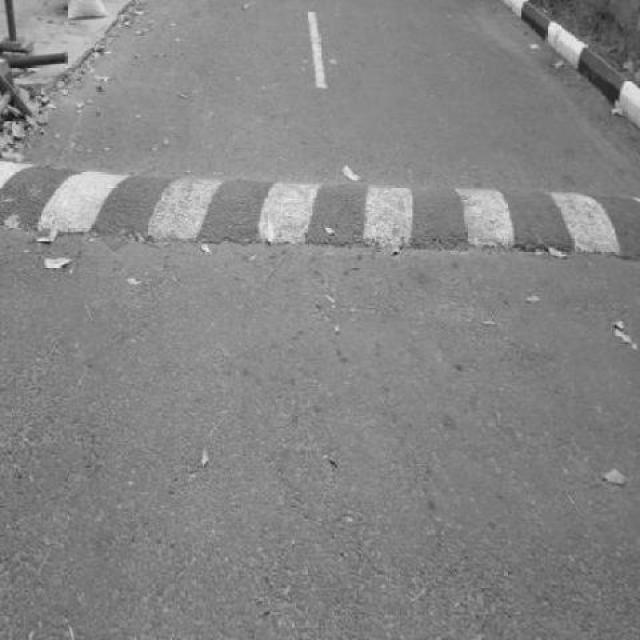Speed Bump: (0, 160, 639, 271)
